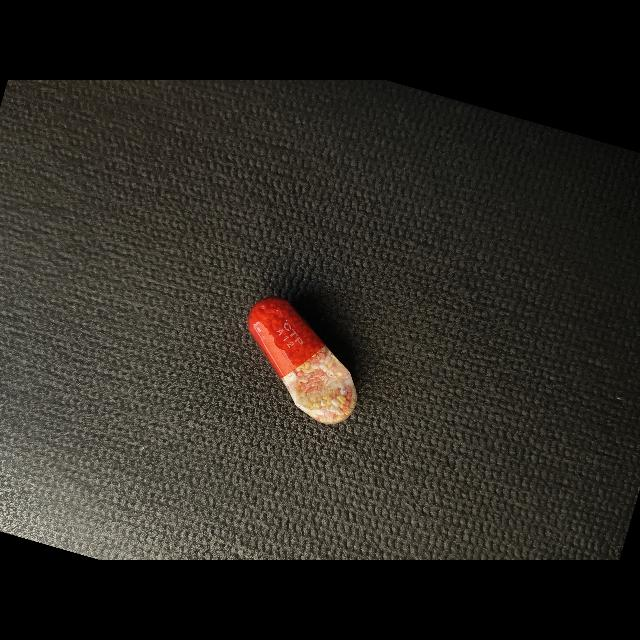Defective Capsule: (248, 297, 357, 424)
